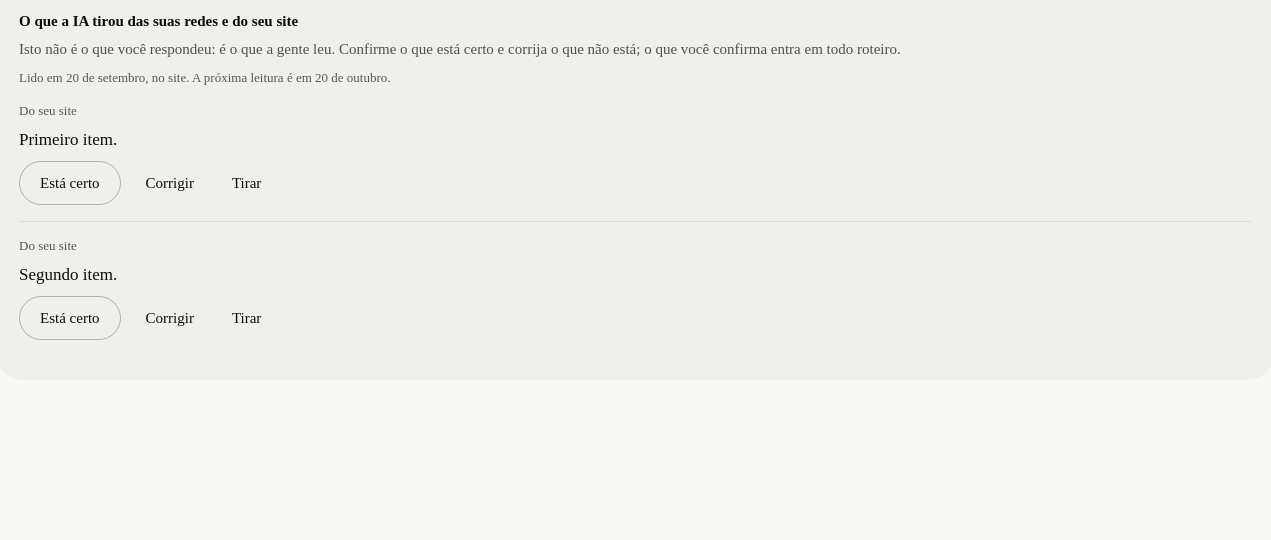
Test: Corrigir › abrir a correção de outro item tira do primeiro a frase 'o que você escreveu continua aí', que deixou de ser verdade
Click the button with aria-label "Corrigir: Primeiro item." at (170, 183), box [133,161,207,205]
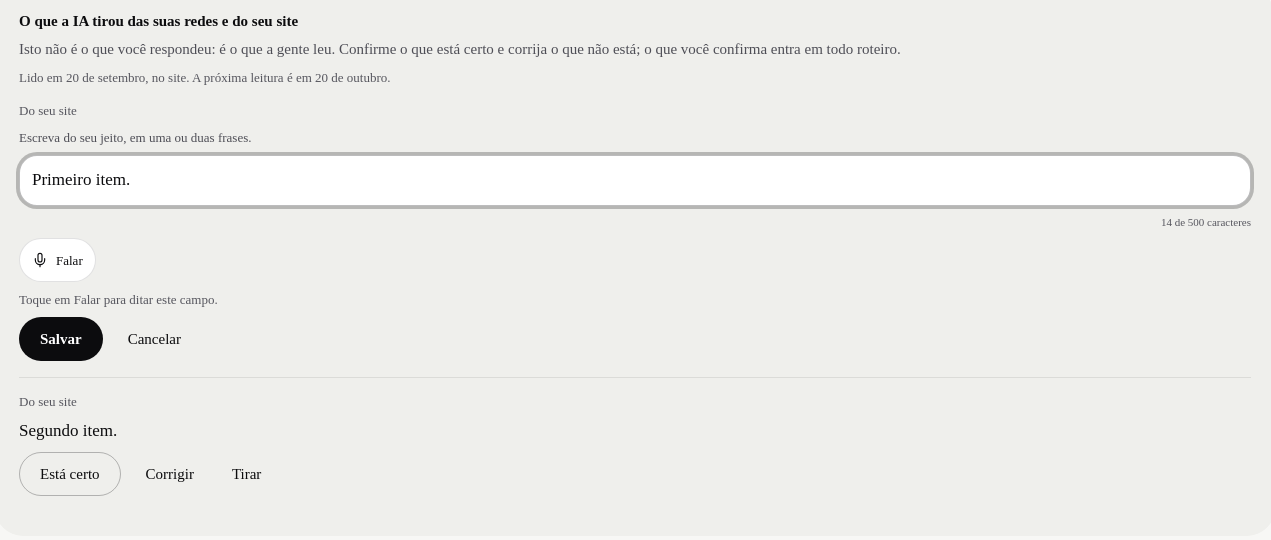
Replace the text in the text box named "Corrigir o que a IA entendeu" with "Algo novo" at (635, 181), box [19,155,1251,206]
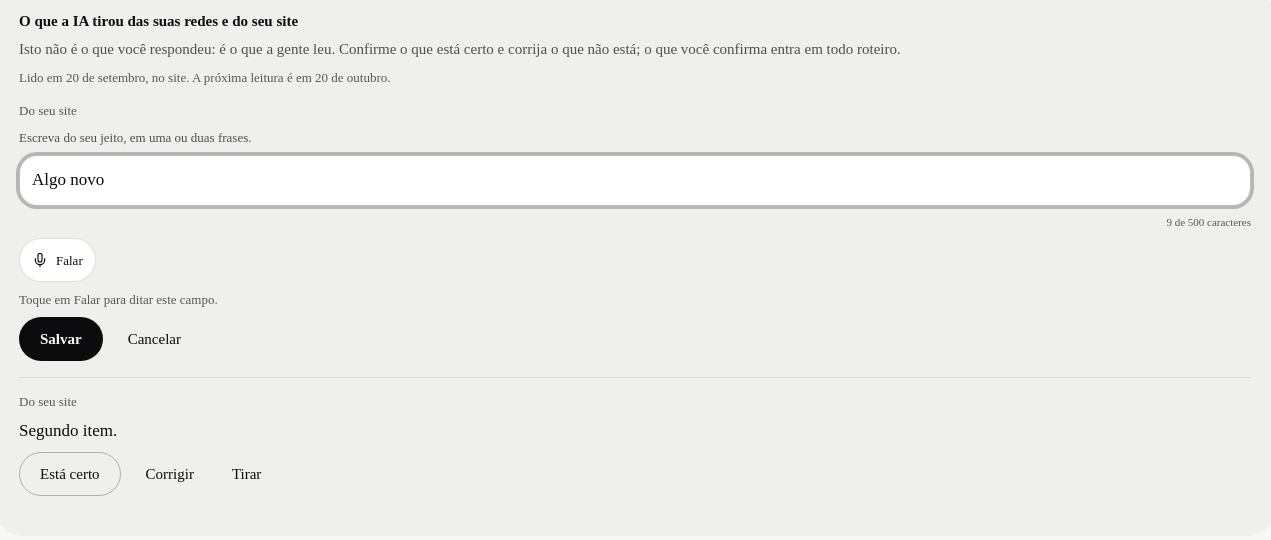
Click the button "Salvar" at (61, 339), box [19,317,103,361]
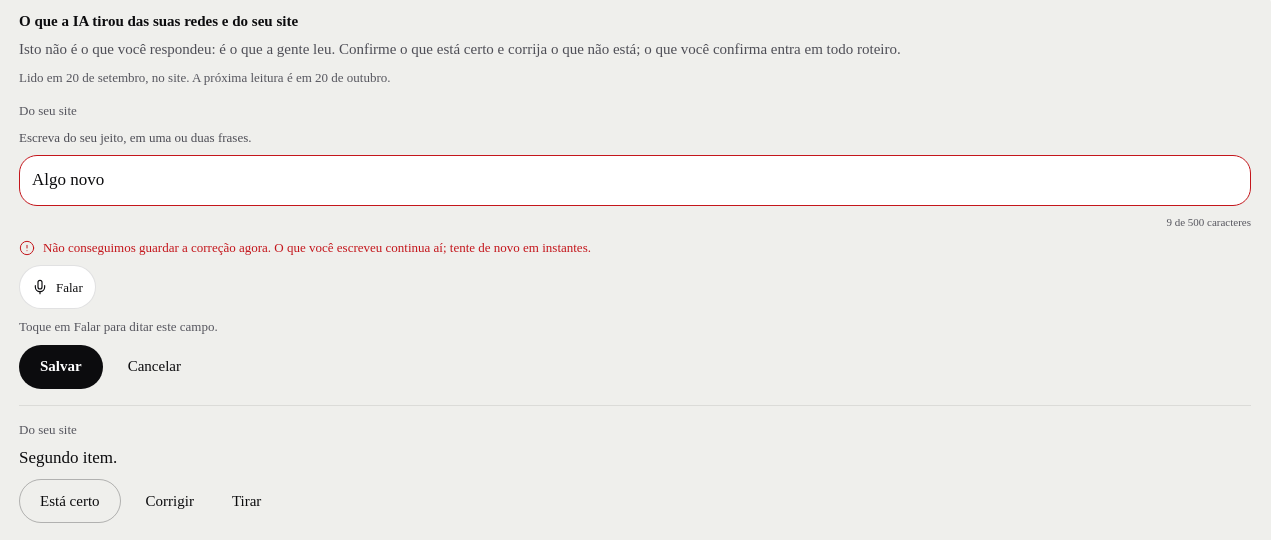
Expected: the text "O que você escreveu continua aí" is shown, [43,240,591,255]
Click the button with aria-label "Corrigir: Segundo item." at (170, 501), box [133,479,207,523]
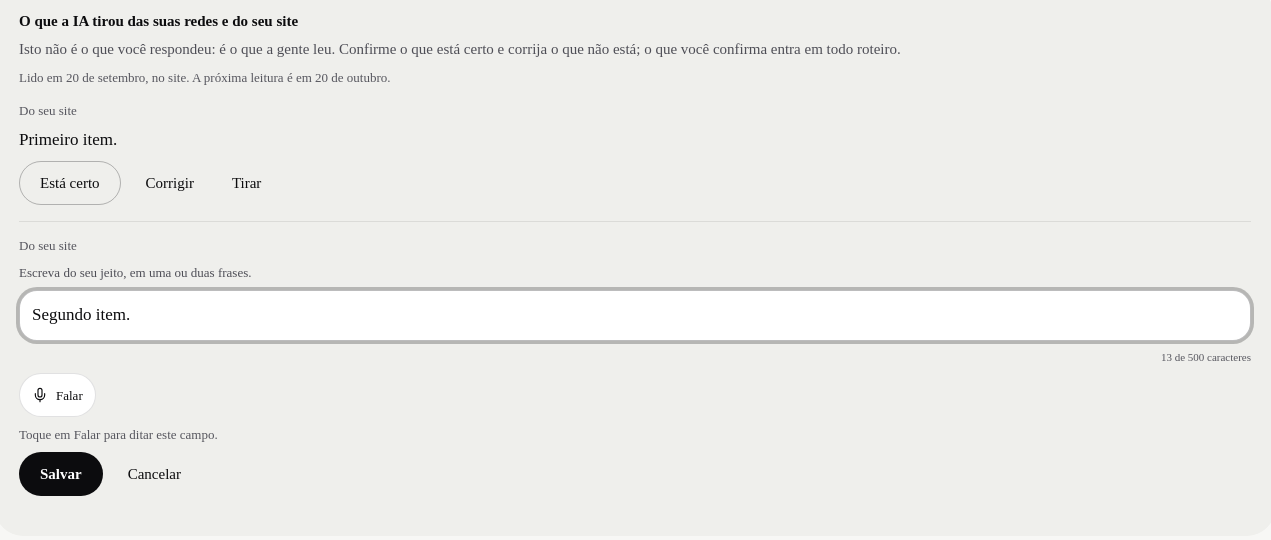
Expected: the text "O que você escreveu continua aí" is gone
